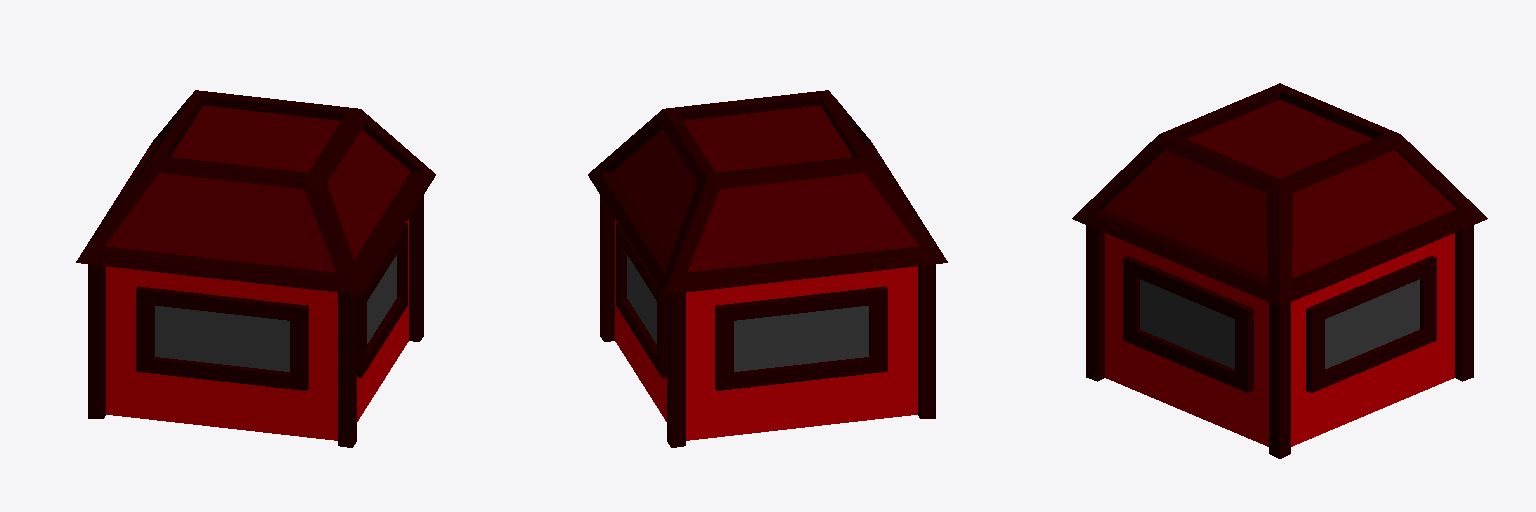
The model's file is House.obj.
The picture shows the model from 3 angles: view 1: azimuth 30°, elevation 25°; view 2: azimuth 150°, elevation 25°; view 3: azimuth 270°, elevation 25°; orthographic projection.
Parts seen in each view (by area): view 1: Cube; view 2: Cube; view 3: Cube.
Boxes of the visible parts, <box> form: Cube: <box>76,90,435,447</box>; Cube: <box>588,90,947,447</box>; Cube: <box>1072,83,1487,458</box>.
Size of the model in its own units: 3.05 by 1.96 by 3.05.